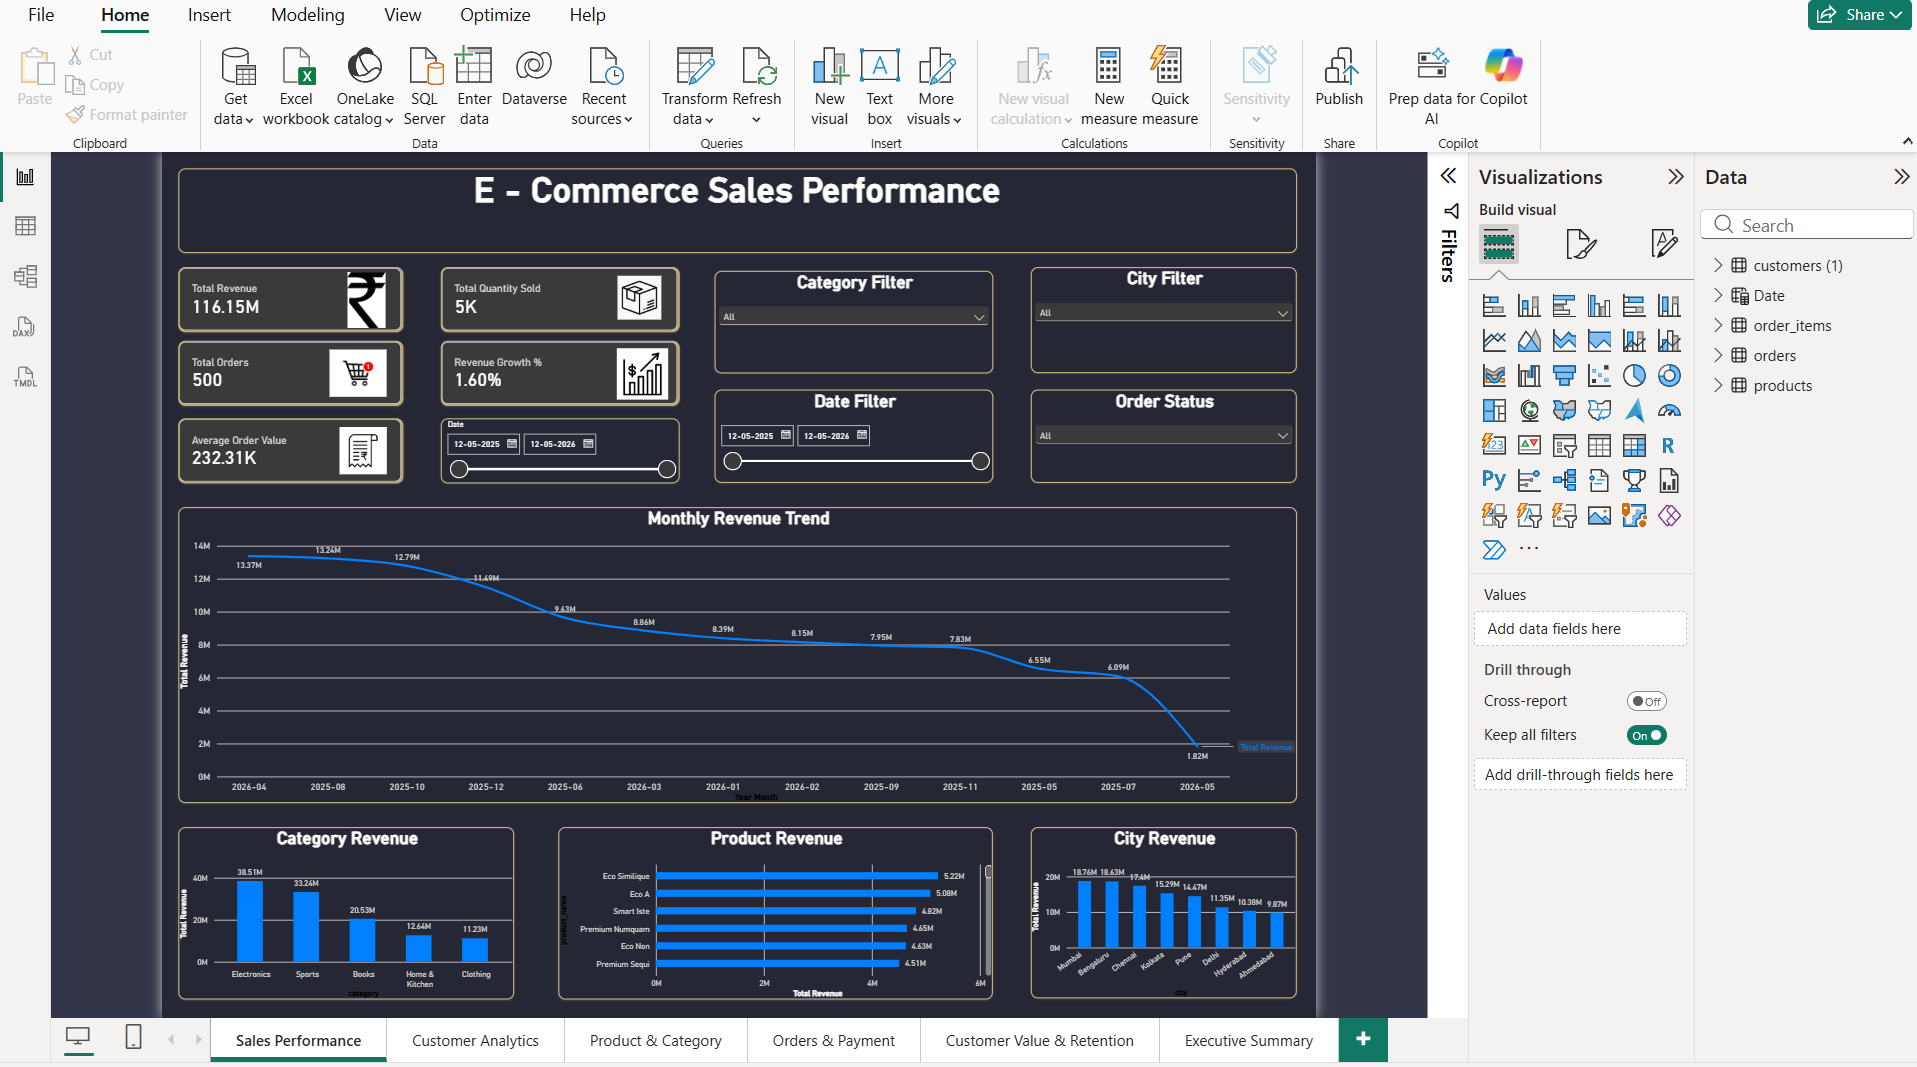

This screenshot's page, from the dashboard's own definition file:
{"tool":"powerbi","page":{"name":"Sales Performance","canvas":[1600,1200],"ordinal":0},"visuals":[{"type":"cardVisual","fields":{"Data":["order_items.Total Revenue"]},"box":[22.5,159.4,311.8,90.1],"z":0},{"type":"cardVisual","fields":{"Data":["order_items.Total Orders"]},"box":[22.5,261.5,311.8,90.1],"z":1000},{"type":"cardVisual","fields":{"Data":["order_items.Average Order Value"]},"box":[22.5,368.9,311.8,90.1],"z":2000},{"type":"cardVisual","fields":{"Data":["order_items.Total Quantity Sold"]},"box":[386.3,159.4,330.8,90.1],"z":3000},{"type":"lineChart","title":"Monthly Revenue Trend","fields":{"Category":["Date.Year Month"],"Y":["order_items.Total Revenue"]},"box":[22.5,491.9,1550.2,410.5],"z":4000},{"type":"clusteredColumnChart","title":"Category Revenue","fields":{"Category":["products.category"],"Y":["order_items.Total Revenue"]},"box":[22.5,935.3,465.9,239],"z":5000},{"type":"clusteredBarChart","title":"Product Revenue","fields":{"Category":["products.product_name"],"Y":["order_items.Total Revenue"]},"box":[549.1,935.3,602.8,239],"z":6000},{"type":"clusteredColumnChart","title":"City Revenue","fields":{"Category":["customers (1).city"],"Y":["order_items.Total Revenue"]},"box":[1203.8,935.3,368.9,237.3],"z":7000},{"type":"slicer","fields":{"Values":["Date.Date"]},"box":[386.3,368.9,330.8,90.1],"z":8000},{"type":"slicer","title":"Category Filter","fields":{"Values":["products.category"]},"box":[765.6,164.6,386.3,142],"z":9000},{"type":"slicer","title":"City Filter","fields":{"Values":["customers (1).city"]},"box":[1203.8,159.4,368.9,147.2],"z":10000},{"type":"textbox","box":[22.5,22.5,1550.2,117.8],"z":11000},{"type":"image","box":[244.2,166.3,77.9,77.9],"z":12000},{"type":"image","box":[221.7,273.7,100.5,65.8],"z":13000},{"type":"image","box":[235.6,381.1,86.6,65.8],"z":14000},{"type":"image","box":[618.4,171.5,86.6,60.6],"z":15000},{"type":"slicer","title":"Order Status","fields":{"Values":["orders.status"]},"box":[1203.8,329.1,368.9,129.9],"z":16000},{"type":"slicer","title":"Date Filter","fields":{"Values":["Date.Date"]},"box":[765.6,329.1,386.3,129.9],"z":17000},{"type":"cardVisual","fields":{"Data":["Date.Revenue Growth %"]},"box":[386.3,261.5,330.8,90.1],"z":17001},{"type":"image","box":[627,271.9,77.9,71],"z":17002}]}

Visuals, with their boxes on the page's 1600x1200 design canvas (x1, y1, x2, y2). These are canvas units, not pixel positions in the 1917x1067 screenshot, which may show the page scaled, cropped or inside an application window:
cardVisual - order_items.Total Revenue: (x1=22, y1=159, x2=334, y2=250)
cardVisual - order_items.Total Orders: (x1=22, y1=262, x2=334, y2=352)
cardVisual - order_items.Average Order Value: (x1=22, y1=369, x2=334, y2=459)
cardVisual - order_items.Total Quantity Sold: (x1=386, y1=159, x2=717, y2=250)
"Monthly Revenue Trend" lineChart: (x1=22, y1=492, x2=1573, y2=902)
"Category Revenue" clusteredColumnChart: (x1=22, y1=935, x2=488, y2=1174)
"Product Revenue" clusteredBarChart: (x1=549, y1=935, x2=1152, y2=1174)
"City Revenue" clusteredColumnChart: (x1=1204, y1=935, x2=1573, y2=1173)
slicer - Date.Date: (x1=386, y1=369, x2=717, y2=459)
"Category Filter" slicer: (x1=766, y1=165, x2=1152, y2=307)
"City Filter" slicer: (x1=1204, y1=159, x2=1573, y2=307)
textbox: (x1=22, y1=22, x2=1573, y2=140)
image: (x1=244, y1=166, x2=322, y2=244)
image: (x1=222, y1=274, x2=322, y2=340)
image: (x1=236, y1=381, x2=322, y2=447)
image: (x1=618, y1=172, x2=705, y2=232)
"Order Status" slicer: (x1=1204, y1=329, x2=1573, y2=459)
"Date Filter" slicer: (x1=766, y1=329, x2=1152, y2=459)
cardVisual - Date.Revenue Growth %: (x1=386, y1=262, x2=717, y2=352)
image: (x1=627, y1=272, x2=705, y2=343)
